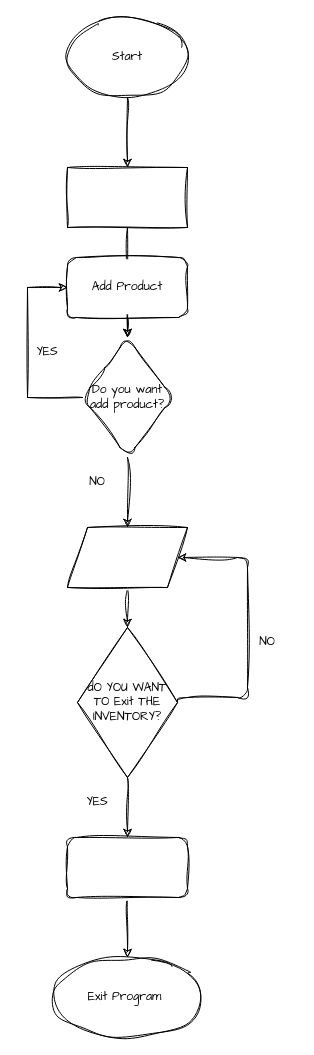
This 314x1055 diagram has some shape labels left out. The box of each missing label's shape, as (x1, y1, x2, y2) in pixels:
calculate statistics: (66, 836, 188, 898)
Menu: (66, 166, 188, 228)
sHOW INVENTORY: (66, 526, 188, 588)
